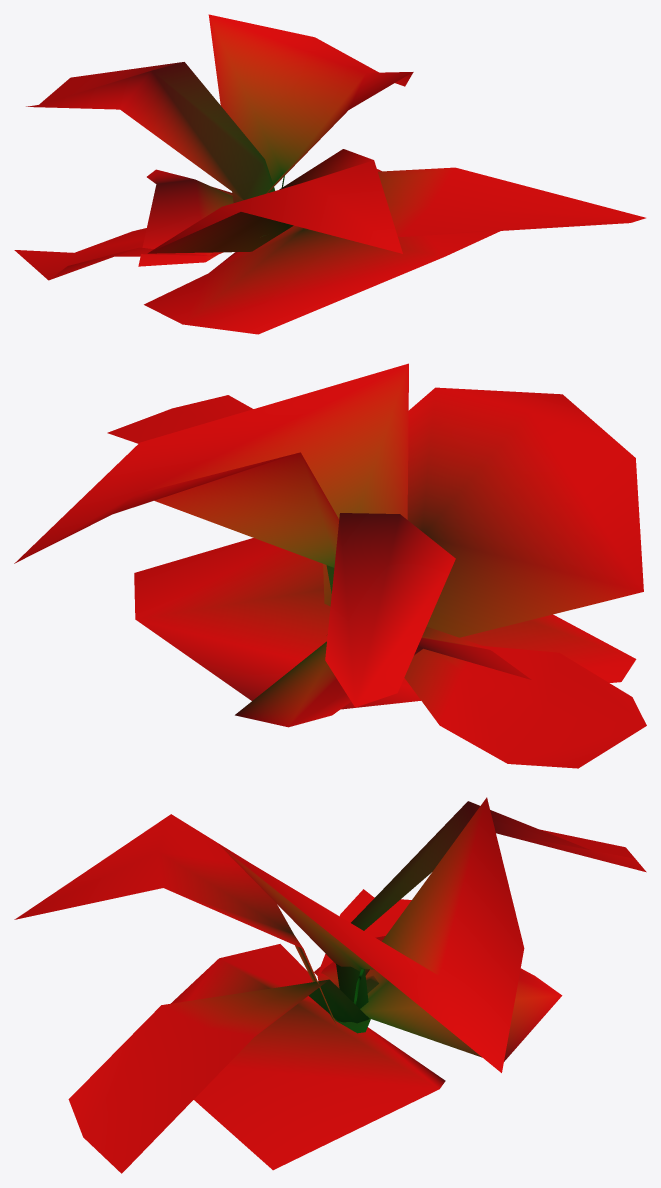
File: Bracken Fern_LOD1_Var4_seEoW.fbx
3 views of the same model, one above another, from view 1: azimuth 30°, elevation 25°; view 2: azimuth 150°, elevation 25°; view 3: azimuth 270°, elevation 25° (orthographic). The views are drawn at different scales.
Parts seen in each view (by area): view 1: _rd03_Var4_LOD1; view 2: _rd03_Var4_LOD1; view 3: _rd03_Var4_LOD1.
Boxes of the visible parts, x1=… form: _rd03_Var4_LOD1: x1=14, y1=14, x2=645, y2=334; _rd03_Var4_LOD1: x1=14, y1=363, x2=646, y2=768; _rd03_Var4_LOD1: x1=14, y1=797, x2=646, y2=1173.
Size of the model in its own units: 140 by 57.44 by 126.
